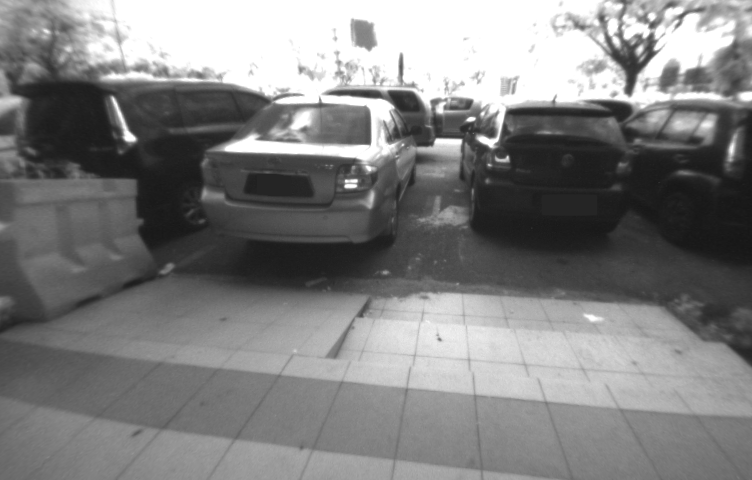down_steps: (335, 288, 748, 383)
mixed_gradient: (288, 277, 392, 367)
